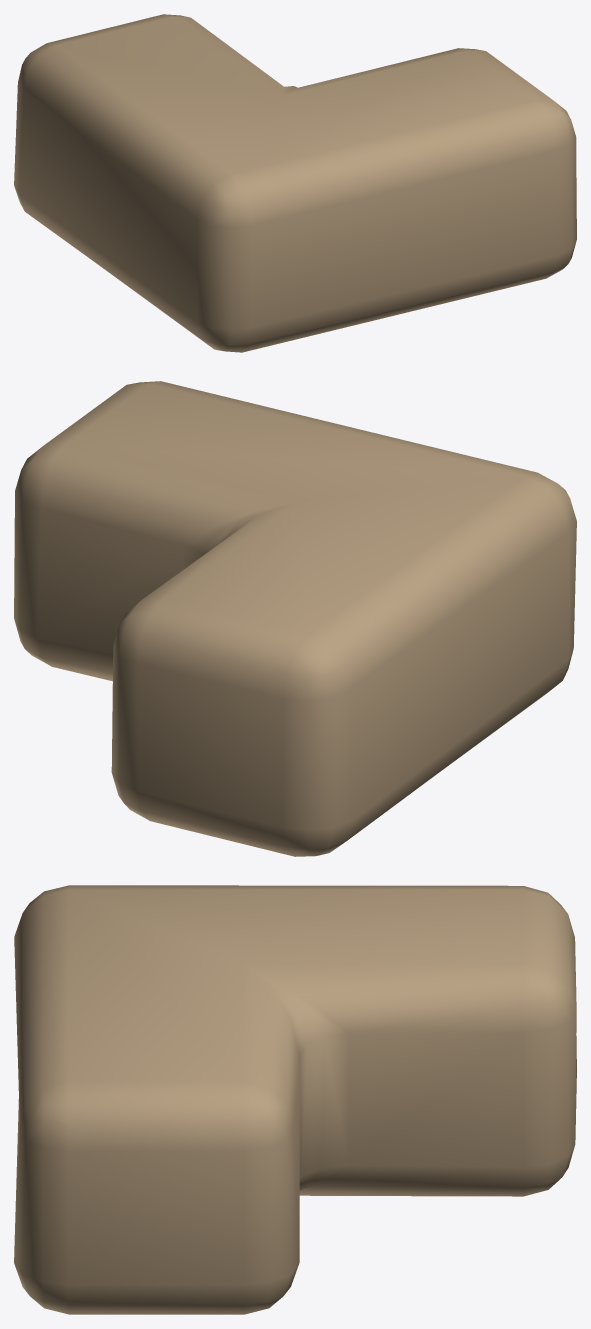
Rendered from ECKSTEIN.glb.
3 renders of one model, top to bottom at view 1: azimuth 30°, elevation 25°; view 2: azimuth 150°, elevation 25°; view 3: azimuth 270°, elevation 25°, orthographic. The views are drawn at different scales.
Parts seen in each view (by area): view 1: ECKSTEIN; view 2: ECKSTEIN; view 3: ECKSTEIN.
Part boxes in pixels (bbox=[...]): ECKSTEIN: bbox=[14, 14, 576, 352]; ECKSTEIN: bbox=[14, 381, 576, 856]; ECKSTEIN: bbox=[14, 885, 576, 1314].
Size of the model in its own units: 1.61 by 0.7209 by 1.61.
